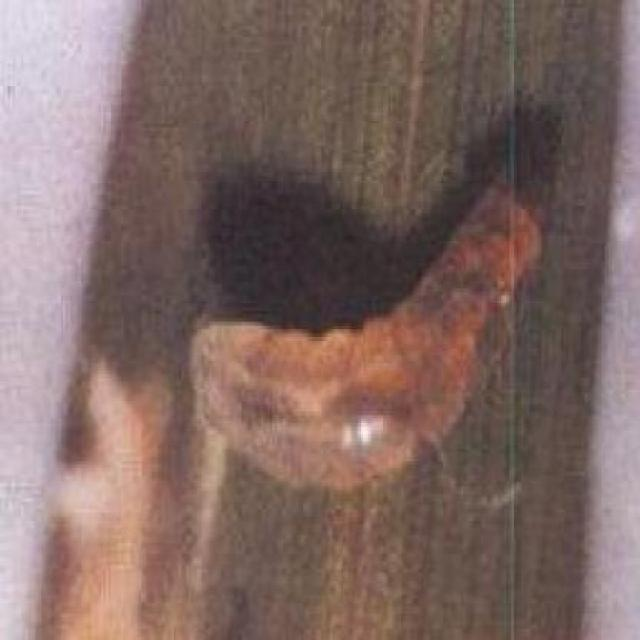whorl-maggot: (185, 182, 557, 530)
